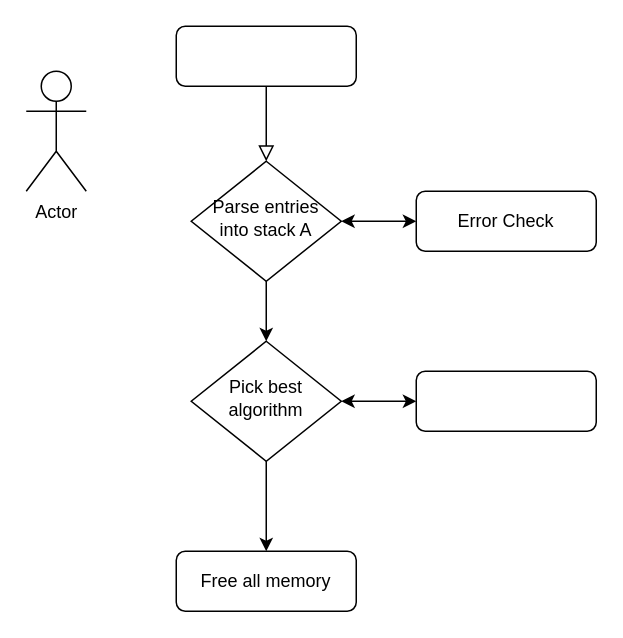
Image size: 623x638. Some labels were removed from this diagram. The shapes that lost their labels are listed below. From the top down, each one's centre as x and y in pixels, then its label:
(265,55): input sequence of numbers
(505,400): Output every step taken
